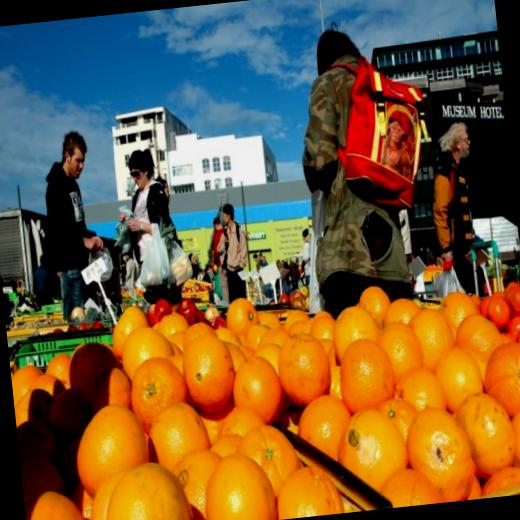Grape: (402, 405, 476, 499), (72, 398, 149, 485), (333, 332, 399, 420), (456, 389, 518, 481), (175, 324, 237, 415), (97, 462, 191, 520), (197, 453, 277, 520), (276, 328, 338, 411), (144, 401, 210, 474), (126, 354, 190, 424), (296, 391, 358, 461), (233, 421, 300, 482), (230, 352, 285, 426), (274, 462, 344, 519), (171, 443, 228, 512), (432, 348, 488, 418), (376, 319, 430, 382), (480, 338, 520, 423), (323, 302, 374, 362), (118, 323, 172, 379), (458, 307, 504, 370), (410, 300, 456, 362), (392, 364, 443, 416), (381, 468, 445, 508), (83, 469, 132, 520), (23, 484, 91, 520), (380, 396, 420, 448), (439, 289, 473, 336), (214, 404, 260, 438), (477, 462, 520, 498), (10, 366, 42, 408), (356, 283, 385, 328), (155, 308, 187, 348), (113, 308, 141, 352), (307, 306, 339, 344), (29, 372, 63, 406), (13, 388, 36, 431), (47, 348, 75, 383), (513, 408, 520, 475)
